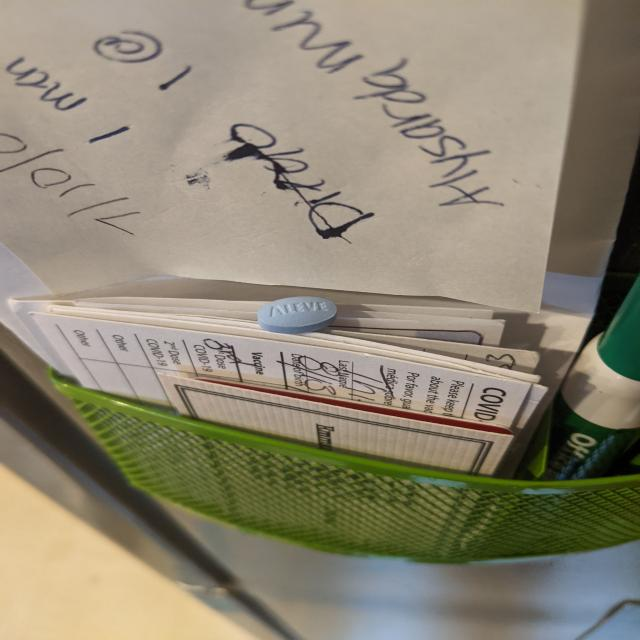non-organic waste: (257, 296, 339, 334)
